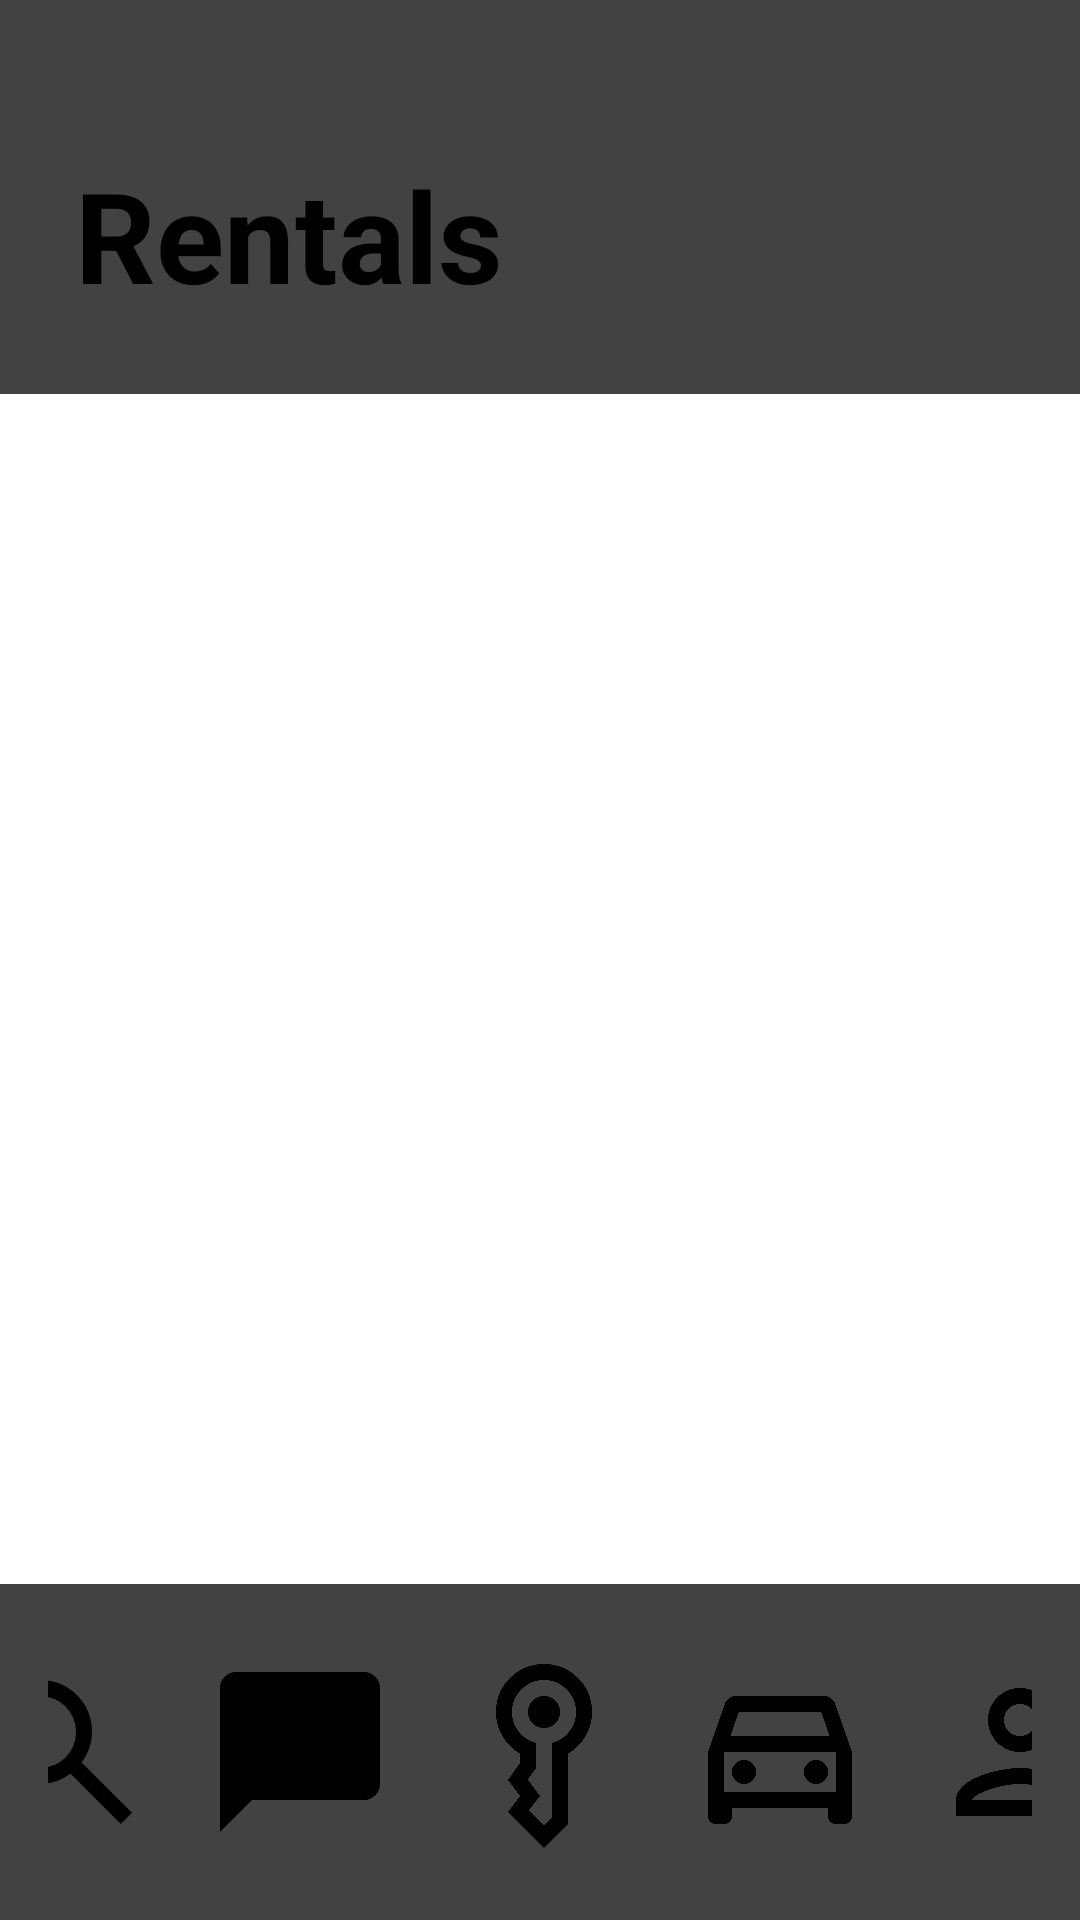

Screen size 1080×1920. Icon name, then its center in pixels as (x=x, y=y):
car: (x=780, y=1760)
rentals: (x=544, y=1756)
